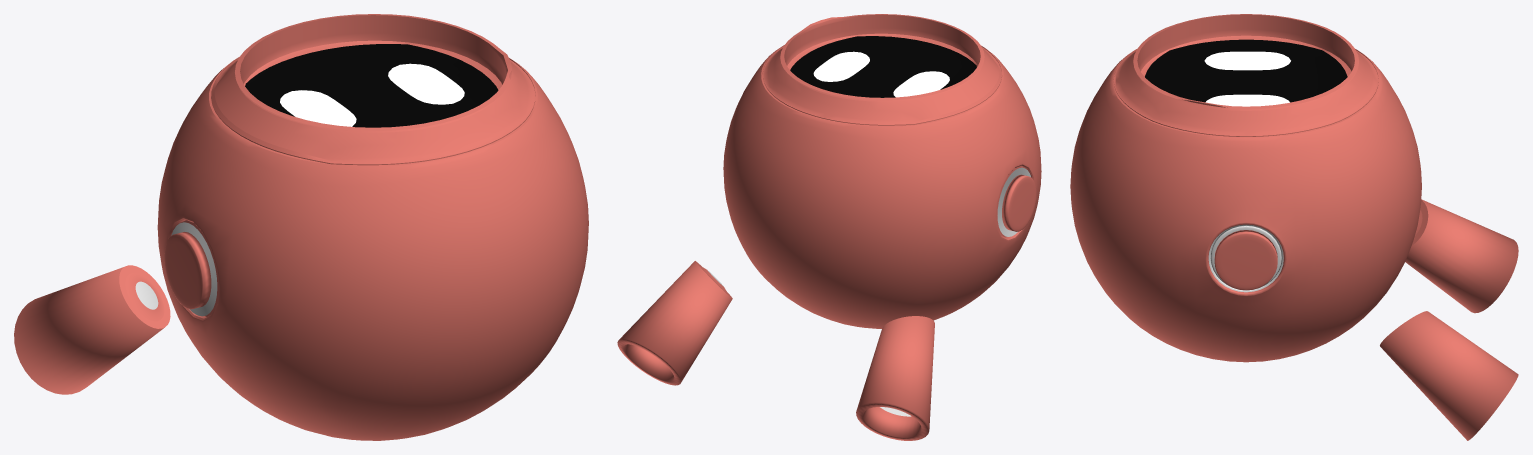
Rendered from companion2.fbx.
3 renders of one model, left to right at view 1: azimuth 30°, elevation 25°; view 2: azimuth 150°, elevation 25°; view 3: azimuth 270°, elevation 25°, orthographic. The views are drawn at different scales.
Visible parts, largest first — view 1: Body, Feet, Eye, Ear; view 2: Body, Feet, Eye, Ear; view 3: Body, Feet, Ear, Eye.
Part boxes in pixels (x1,y1,x2,y2): Body: [157, 14, 588, 440]; Feet: [14, 265, 170, 394]; Eye: [280, 63, 464, 126]; Ear: [164, 222, 217, 316]; Body: [723, 14, 1041, 328]; Feet: [617, 261, 934, 440]; Eye: [813, 51, 949, 97]; Ear: [997, 167, 1036, 236]; Body: [1070, 14, 1421, 362]; Feet: [1380, 199, 1518, 440]; Ear: [1208, 224, 1283, 292]; Eye: [1204, 51, 1290, 106].
Size of the model in its own units: 189 by 166 by 215.
